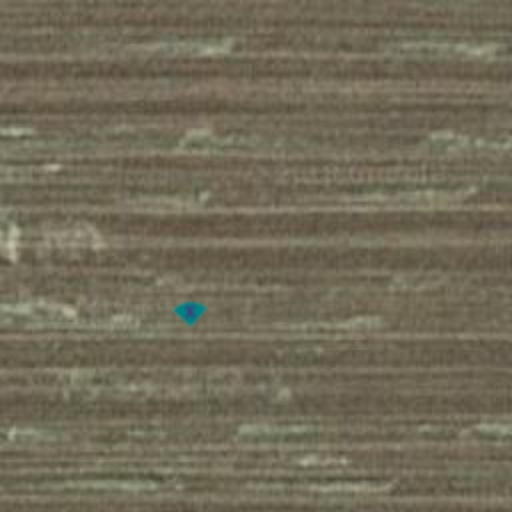quarter_circle: (172, 294, 208, 330)
